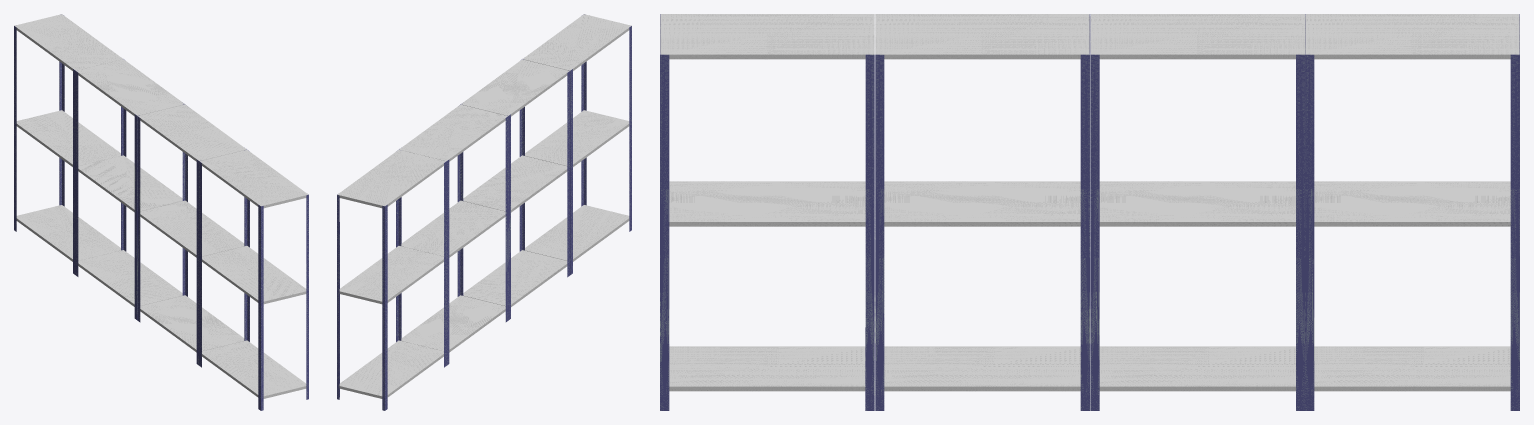
The model's file is shelves.fbx.
3 renders of one model, left to right at view 1: azimuth 30°, elevation 25°; view 2: azimuth 150°, elevation 25°; view 3: azimuth 270°, elevation 25°, orthographic. The views are drawn at different scales.
Visible parts, largest first — view 1: Group9, Group25, Group17, Group33, Group2, Group3, Group10, Group19, Group11, Group18, Group27, Group26 (+13 smaller); view 2: Group33, Group9, Group17, Group25, Group26, Group27, Group11, Group10, Group2, Group3, Group18, Group19 (+13 smaller); view 3: Group9, Group17, Group33, Group25, Group3, Group10, Group11, Group19, Group26, Group27, Group2, Group18 (+8 smaller).
Part boxes in pixels (bbox=[...]): Group9: bbox=[200, 150, 308, 208]; Group25: bbox=[76, 59, 184, 116]; Group17: bbox=[138, 104, 246, 161]; Group33: bbox=[14, 14, 122, 70]; Group2: bbox=[202, 340, 306, 398]; Group3: bbox=[202, 246, 306, 304]; Group10: bbox=[140, 295, 244, 352]; Group19: bbox=[78, 155, 182, 212]; Group11: bbox=[140, 200, 244, 257]; Group18: bbox=[78, 250, 182, 306]; Group27: bbox=[16, 110, 120, 166]; Group26: bbox=[16, 205, 120, 261]; Group33: bbox=[337, 150, 445, 208]; Group9: bbox=[523, 14, 631, 70]; Group17: bbox=[461, 59, 569, 116]; Group25: bbox=[399, 104, 507, 161]; Group26: bbox=[339, 340, 443, 398]; Group27: bbox=[339, 246, 443, 304]; Group11: bbox=[463, 155, 567, 212]; Group10: bbox=[463, 250, 567, 306]; Group2: bbox=[525, 205, 629, 261]; Group3: bbox=[525, 110, 629, 166]; Group18: bbox=[401, 295, 505, 352]; Group19: bbox=[401, 200, 505, 257]; Group9: bbox=[660, 14, 874, 59]; Group17: bbox=[875, 14, 1089, 59]; Group33: bbox=[1305, 14, 1519, 59]; Group25: bbox=[1090, 14, 1304, 59]; Group3: bbox=[669, 181, 865, 226]; Group10: bbox=[884, 346, 1080, 391]; Group11: bbox=[884, 181, 1080, 226]; Group19: bbox=[1099, 181, 1295, 226]; Group26: bbox=[1314, 346, 1510, 391]; Group27: bbox=[1314, 181, 1510, 226]; Group2: bbox=[669, 346, 865, 391]; Group18: bbox=[1099, 346, 1295, 391].
Bounding box in the file's own units: 59.83 × 244 × 533.
